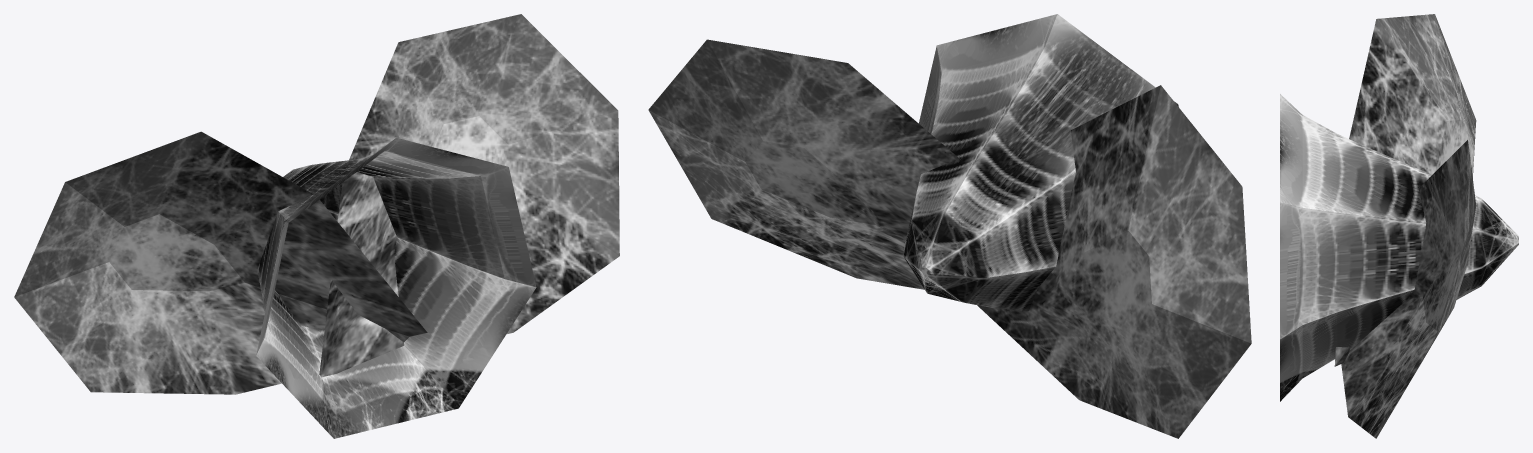
Rendered from Cobweb 04.fbx.
3 views of the same model, side by side, from view 1: azimuth 30°, elevation 25°; view 2: azimuth 150°, elevation 25°; view 3: azimuth 270°, elevation 25° (orthographic). The views are drawn at different scales.
Visible parts, largest first — view 1: Cylinder; view 2: Cylinder; view 3: Cylinder.
Part boxes in pixels (x1=…): Cylinder: x1=14, y1=14, x2=619, y2=438; Cylinder: x1=648, y1=14, x2=1251, y2=438; Cylinder: x1=1280, y1=14, x2=1518, y2=438.
Size of the model in its own units: 251 by 120 by 91.44.
